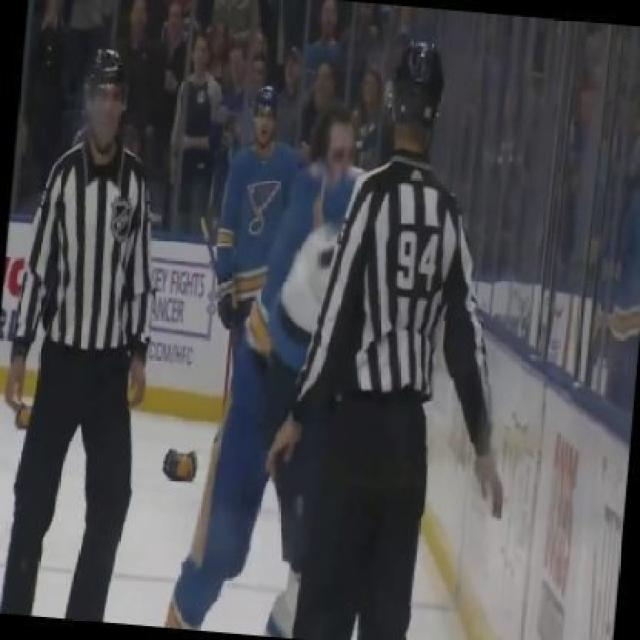non-fight: (267, 34, 506, 640), (161, 162, 387, 640), (6, 44, 126, 640), (213, 79, 292, 365)
